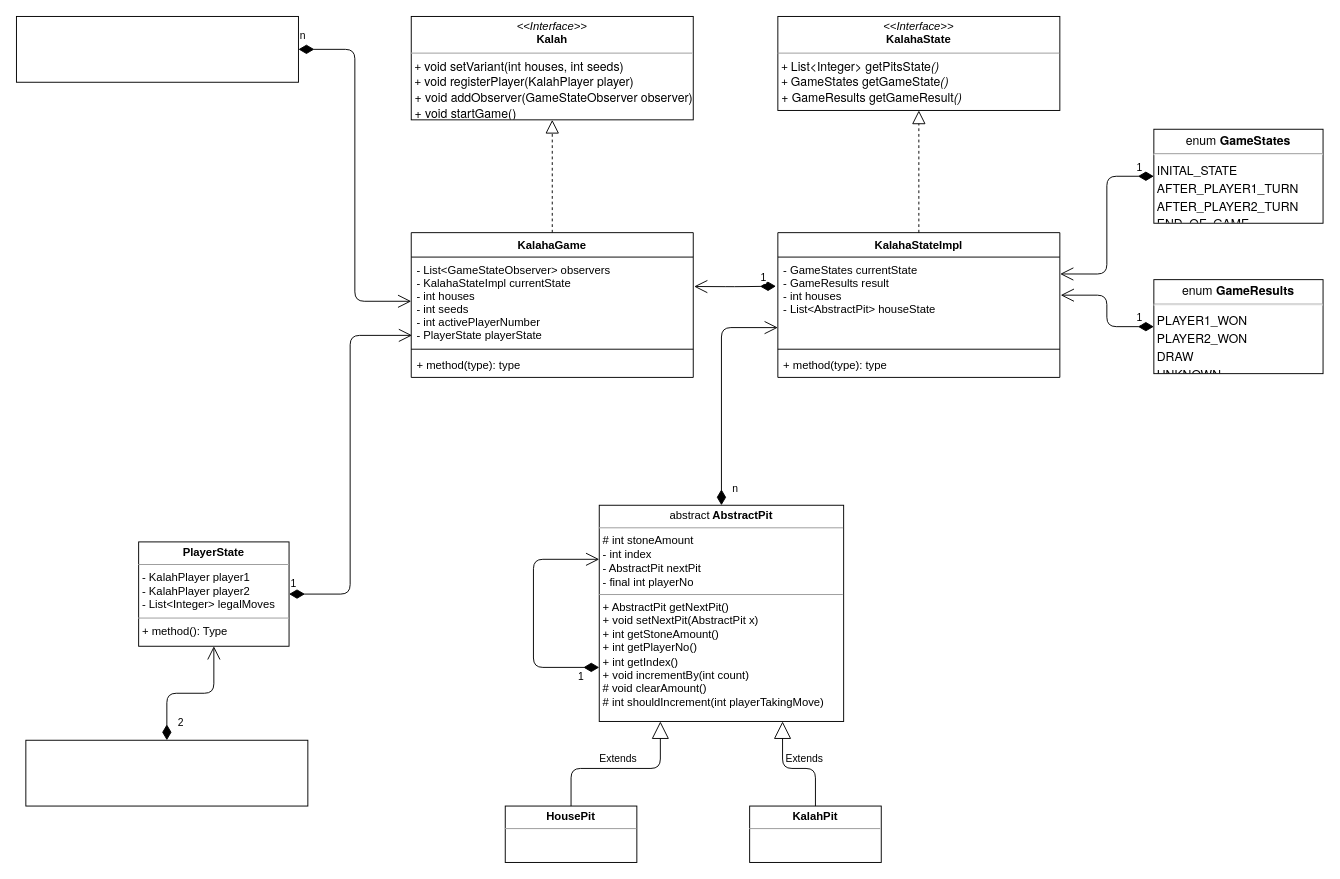
The diagram is 1340 pixels wide and 879 high, and some of its shapes have lost their labels. Here are the shapes that lost their labels. From the top down, the centre of each, then its label:
At (157,49): "<<Interface>> GameStateObserver + void currentState ( KalahaState state )".
At (166,772): "<<Interface>> KalahPlayer + int yourMove ( List < Integer > pitsState )".
